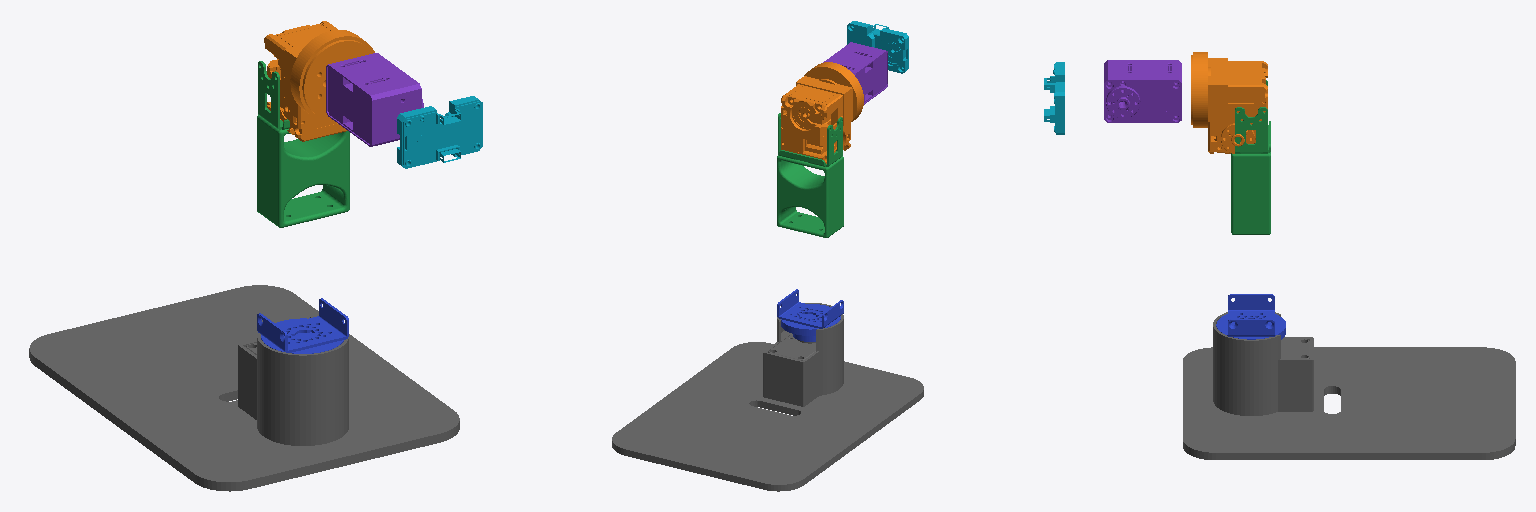
The robot description file, URDF, robot "robot_arm_fusion":
<?xml version="1.0"?>
<robot name="robot_arm_fusion">
  <material name="base_gray"><color rgba="0.45 0.45 0.45 1"/></material>
  <material name="yaw_blue"><color rgba="0.25 0.35 0.85 1"/></material>
  <material name="shoulder_green"><color rgba="0.2 0.65 0.35 1"/></material>
  <material name="upper_orange"><color rgba="0.95 0.55 0.15 1"/></material>
  <material name="forearm_purple"><color rgba="0.55 0.3 0.8 1"/></material>
  <material name="elbow_red"><color rgba="0.85 0.25 0.2 1"/></material>
  <material name="wrist_cyan"><color rgba="0.1 0.7 0.8 1"/></material>

  <link name="base_link">
    <inertial>
      <origin xyz="0 0 0" rpy="0 0 0"/>
      <mass value="0.1"/>
      <inertia ixx="0.0001" ixy="0" ixz="0" iyy="0.0001" iyz="0" izz="0.0001"/>
    </inertial>
    <visual>
      <origin xyz="-0.075 -0.0413 0" rpy="0 -0 0"/>
      <geometry><mesh filename="../cad/exports/fusion_meshes/arm_plate_v2_1.stl" scale="0.001 0.001 0.001"/></geometry>
      <material name="base_gray"/>
    </visual>
    <visual>
      <origin xyz="0.00015 -5e-05 0.022" rpy="-1.57772e-30 2.9525e-15 -3.14159"/>
      <geometry><mesh filename="../cad/exports/fusion_meshes/XM_H-430_idler_1_DUMMY_DC12_1.stl" scale="0.001 0.001 0.001"/></geometry>
      <material name="base_gray"/>
    </visual>
  </link>

  <link name="base_yaw_link">
    <inertial>
      <origin xyz="0 0 0" rpy="0 0 0"/>
      <mass value="0.1"/>
      <inertia ixx="0.0001" ixy="0" ixz="0" iyy="0.0001" iyz="0" izz="0.0001"/>
    </inertial>
    <visual>
      <origin xyz="-4.43239e-34 9.52863e-34 0.055" rpy="-3.14159 -1.21521e-17 -3.14159"/>
      <geometry><mesh filename="../cad/exports/fusion_meshes/arm_thrustA_1.stl" scale="0.001 0.001 0.001"/></geometry>
      <material name="yaw_blue"/>
    </visual>
    <visual>
      <origin xyz="2.56706e-16 1.09555e-16 0.0745" rpy="-3.14159 -2.04493e-15 -3.14159"/>
      <geometry><mesh filename="../cad/exports/fusion_meshes/fr12_s102_k_1.stl" scale="0.001 0.001 0.001"/></geometry>
      <material name="yaw_blue"/>
    </visual>
    <visual>
      <origin xyz="7.66984e-17 1.57737e-16 0.0955" rpy="1.5708 7.13883e-18 1.5708"/>
      <geometry><mesh filename="../cad/exports/fusion_meshes/XM_H-430_idler_2_DUMMY_DC12_1.stl" scale="0.001 0.001 0.001"/></geometry>
      <material name="yaw_blue"/>
    </visual>
  </link>

  <link name="shoulder_pitch_link">
    <inertial>
      <origin xyz="0 0 0" rpy="0 0 0"/>
      <mass value="0.1"/>
      <inertia ixx="0.0001" ixy="0" ixz="0" iyy="0.0001" iyz="0" izz="0.0001"/>
    </inertial>
    <visual>
      <origin xyz="4.36406e-17 1.76033e-16 -5e-05" rpy="1.5708 2.04397e-15 1.17928e-16"/>
      <geometry><mesh filename="../cad/exports/fusion_meshes/fr12_h101_k_1.stl" scale="0.001 0.001 0.001"/></geometry>
      <material name="shoulder_green"/>
    </visual>
    <visual>
      <origin xyz="-0.0205 0.012 0.08195" rpy="0 1.5708 -1.5708"/>
      <geometry><mesh filename="../cad/exports/fusion_meshes/arm_part1_1.stl" scale="0.001 0.001 0.001"/></geometry>
      <material name="shoulder_green"/>
    </visual>
    <visual>
      <origin xyz="-1.79023e-17 -6.00631e-16 0.10995" rpy="-1.5708 1.28606e-16 1.53078e-15"/>
      <geometry><mesh filename="../cad/exports/fusion_meshes/fr12_h101_k_2.stl" scale="0.001 0.001 0.001"/></geometry>
      <material name="shoulder_green"/>
    </visual>
  </link>

  <link name="upper_arm_link">
    <inertial>
      <origin xyz="0 0 0" rpy="0 0 0"/>
      <mass value="0.1"/>
      <inertia ixx="0.0001" ixy="0" ixz="0" iyy="0.0001" iyz="0" izz="0.0001"/>
    </inertial>
    <visual>
      <origin xyz="0.00048 -0.008 0.00625" rpy="1.5708 1.20278e-16 1.65146e-15"/>
      <geometry><mesh filename="../cad/exports/fusion_meshes/2XC-430_1_DC14_A01_REF_1.stl" scale="0.001 0.001 0.001"/></geometry>
      <material name="upper_orange"/>
    </visual>
    <visual>
      <origin xyz="0.016 -0.008 -0.00575" rpy="0 1.5708 -1.5708"/>
      <geometry><mesh filename="../cad/exports/fusion_meshes/2XC-430_1_DC11_A01_HORN_REF_ASM_1_DC11_A01_HORN_REF_1.stl" scale="0.001 0.001 0.001"/></geometry>
      <material name="upper_orange"/>
    </visual>
    <visual>
      <origin xyz="0.00048 -0.02352 0.01825" rpy="0 -1.5708 -3.14159"/>
      <geometry><mesh filename="../cad/exports/fusion_meshes/2XC-430_1_DC11_A01_HORN_REF_ASM_2_DC11_A01_HORN_REF_1.stl" scale="0.001 0.001 0.001"/></geometry>
      <material name="upper_orange"/>
    </visual>
    <visual>
      <origin xyz="0.00058 -0.026 0.01824" rpy="1.5708 1.20278e-16 1.65146e-15"/>
      <geometry><mesh filename="../cad/exports/fusion_meshes/arm_thrustC_1.stl" scale="0.001 0.001 0.001"/></geometry>
      <material name="upper_orange"/>
    </visual>
    <visual>
      <origin xyz="0.00048 -0.03652 0.01825" rpy="-1.5708 -4.91456e-16 4.01944e-15"/>
      <geometry><mesh filename="../cad/exports/fusion_meshes/arm_thrustB_1.stl" scale="0.001 0.001 0.001"/></geometry>
      <material name="upper_orange"/>
    </visual>
    <visual>
      <origin xyz="0.00048 -0.05602 0.01825" rpy="-1.5708 -4.91456e-16 4.23541e-15"/>
      <geometry><mesh filename="../cad/exports/fusion_meshes/fr12_s102_k_2.stl" scale="0.001 0.001 0.001"/></geometry>
      <material name="upper_orange"/>
    </visual>
  </link>

  <link name="forearm_link">
    <inertial>
      <origin xyz="0 0 0" rpy="0 0 0"/>
      <mass value="0.1"/>
      <inertia ixx="0.0001" ixy="0" ixz="0" iyy="0.0001" iyz="0" izz="0.0001"/>
    </inertial>
    <visual>
      <origin xyz="-0.01142 -0.00992 -0.00445" rpy="0 -1.5708 -3.14159"/>
      <geometry><mesh filename="../cad/exports/fusion_meshes/XC-430_idle_1_DC11_B01_CASE_M_DUMMY_1.stl" scale="0.001 0.001 0.001"/></geometry>
      <material name="forearm_purple"/>
    </visual>
    <visual>
      <origin xyz="-0.01142 -0.00992 -0.00445" rpy="0 -1.5708 -3.14159"/>
      <geometry><mesh filename="../cad/exports/fusion_meshes/XC-430_idle_1_DC11_B01_CASE_F_DUMMY_1.stl" scale="0.001 0.001 0.001"/></geometry>
      <material name="forearm_purple"/>
    </visual>
    <visual>
      <origin xyz="-0.01142 -0.00992 -0.00445" rpy="0 -1.5708 -3.14159"/>
      <geometry><mesh filename="../cad/exports/fusion_meshes/XC-430_idle_1_DC11_B01_CASE_B_DUMMY2_1.stl" scale="0.001 0.001 0.001"/></geometry>
      <material name="forearm_purple"/>
    </visual>
    <visual>
      <origin xyz="0.00408 -0.00992 -0.00445" rpy="4.92709e-16 7.77156e-16 -1.5708"/>
      <geometry><mesh filename="../cad/exports/fusion_meshes/XC-430_idle_1_M_DC11_A01_HORN_ASM_1_M_DC11_A01_HORN_1.stl" scale="0.001 0.001 0.001"/></geometry>
      <material name="forearm_purple"/>
    </visual>
    <visual>
      <origin xyz="-0.03192 -0.03792 -0.01645" rpy="1.5708 -3.70721e-16 5.39809e-15"/>
      <geometry><mesh filename="../cad/exports/fusion_meshes/arm_hand_v2_1.stl" scale="0.001 0.001 0.001"/></geometry>
      <material name="forearm_purple"/>
    </visual>
    <visual>
      <origin xyz="-0.01142 -0.00992 -0.00445" rpy="-8.18789e-16 4.93185e-16 -3.14159"/>
      <geometry><mesh filename="../cad/exports/fusion_meshes/fr12_h101_k_3.stl" scale="0.001 0.001 0.001"/></geometry>
      <material name="forearm_purple"/>
    </visual>
  </link>

  <link name="elbow_roll_link">
    <inertial>
      <origin xyz="0 0 0" rpy="0 0 0"/>
      <mass value="0.1"/>
      <inertia ixx="0.0001" ixy="0" ixz="0" iyy="0.0001" iyz="0" izz="0.0001"/>
    </inertial>
  </link>

  <link name="wrist_pitch_link">
    <inertial>
      <origin xyz="0 0 0" rpy="0 0 0"/>
      <mass value="0.1"/>
      <inertia ixx="0.0001" ixy="0" ixz="0" iyy="0.0001" iyz="0" izz="0.0001"/>
    </inertial>
    <visual>
      <origin xyz="-0.00732 -0.00202 -0.00855" rpy="0 -1.5708 1.5708"/>
      <geometry><mesh filename="../cad/exports/fusion_meshes/XC-430_idle_2_DC11_B01_CASE_M_DUMMY_1.stl" scale="0.001 0.001 0.001"/></geometry>
      <material name="wrist_cyan"/>
    </visual>
    <visual>
      <origin xyz="-0.00732 -0.00202 -0.00855" rpy="0 -1.5708 1.5708"/>
      <geometry><mesh filename="../cad/exports/fusion_meshes/XC-430_idle_2_DC11_B01_CASE_F_DUMMY_1.stl" scale="0.001 0.001 0.001"/></geometry>
      <material name="wrist_cyan"/>
    </visual>
    <visual>
      <origin xyz="-0.00732 -0.00202 -0.00855" rpy="0 -1.5708 1.5708"/>
      <geometry><mesh filename="../cad/exports/fusion_meshes/XC-430_idle_2_DC11_B01_CASE_B_DUMMY2_1.stl" scale="0.001 0.001 0.001"/></geometry>
      <material name="wrist_cyan"/>
    </visual>
    <visual>
      <origin xyz="-0.00732 -0.01752 -0.00855" rpy="-3.33067e-16 -1.44018e-15 -3.14159"/>
      <geometry><mesh filename="../cad/exports/fusion_meshes/XC-430_idle_2_M_DC11_A01_HORN_ASM_1_M_DC11_A01_HORN_1.stl" scale="0.001 0.001 0.001"/></geometry>
      <material name="wrist_cyan"/>
    </visual>
  </link>

  <joint name="base_yaw_joint" type="revolute">
    <parent link="base_link"/>
    <child link="base_yaw_link"/>
    <origin xyz="0 0 0" rpy="0 0 0"/>
    <axis xyz="0 0 1"/>
    <limit lower="-3.14159" upper="3.14159" effort="2.0" velocity="1.0"/>
  </joint>

  <joint name="shoulder_pitch_joint" type="revolute">
    <parent link="base_yaw_link"/>
    <child link="shoulder_pitch_link"/>
    <origin xyz="0 0 0.0955" rpy="0 0 0"/>
    <axis xyz="1 0 0"/>
    <limit lower="-1.5708" upper="1.5708" effort="2.0" velocity="1.0"/>
  </joint>

  <joint name="elbow_pitch_joint" type="revolute">
    <parent link="shoulder_pitch_link"/>
    <child link="upper_arm_link"/>
    <origin xyz="0 0 0.0972" rpy="0 0 0"/>
    <axis xyz="1 0 0"/>
    <limit lower="-1.5708" upper="1.5708" effort="2.0" velocity="1.0"/>
  </joint>

  <joint name="upper_arm_roll_joint" type="revolute">
    <parent link="upper_arm_link"/>
    <child link="forearm_link"/>
    <origin xyz="0.0119 -0.0671 0.0227" rpy="0 0 0"/>
    <axis xyz="0 0 -1"/>
    <limit lower="-1.5708" upper="1.5708" effort="2.0" velocity="1.0"/>
  </joint>

  <joint name="elbow_roll_joint" type="revolute">
    <parent link="forearm_link"/>
    <child link="elbow_roll_link"/>
    <origin xyz="-0.0078 -0.0004 0" rpy="0 0 0"/>
    <axis xyz="-1 0 0"/>
    <limit lower="-1.5708" upper="1.5708" effort="2.0" velocity="1.0"/>
  </joint>

  <joint name="wrist_pitch_joint" type="revolute">
    <parent link="elbow_roll_link"/>
    <child link="wrist_pitch_link"/>
    <origin xyz="0.0037 -0.0595 0.0041" rpy="0 0 0"/>
    <axis xyz="0 1 0"/>
    <limit lower="-1.5708" upper="1.5708" effort="2.0" velocity="1.0"/>
  </joint>

</robot>

--- Facts derived from the render (not from the file) ---
3 views of the same robot in one strip: view 1: azimuth 30°, elevation 25°; view 2: azimuth 150°, elevation 25°; view 3: azimuth 270°, elevation 25° (orthographic).
Model robot_arm_fusion with 7 links and 6 joints (6 revolute), rooted at base_link, posed all joints at 0.
Visible links, largest first — view 1: base_link, shoulder_pitch_link, upper_arm_link, forearm_link, wrist_pitch_link, base_yaw_link; view 2: base_link, upper_arm_link, shoulder_pitch_link, base_yaw_link, forearm_link, wrist_pitch_link; view 3: base_link, upper_arm_link, forearm_link, shoulder_pitch_link, base_yaw_link, wrist_pitch_link.
Boxes of the visible links, box(x1,y1,x2,y2) form: base_link: box(29, 285, 459, 491); shoulder_pitch_link: box(257, 61, 349, 227); upper_arm_link: box(264, 21, 374, 141); forearm_link: box(326, 53, 423, 146); wrist_pitch_link: box(397, 96, 482, 168); base_yaw_link: box(257, 298, 348, 353); base_link: box(612, 303, 923, 491); upper_arm_link: box(781, 62, 863, 163); shoulder_pitch_link: box(777, 113, 843, 237); base_yaw_link: box(777, 289, 843, 341); forearm_link: box(823, 42, 887, 104); wrist_pitch_link: box(847, 21, 908, 73); base_link: box(1183, 312, 1515, 459); upper_arm_link: box(1191, 52, 1267, 153); forearm_link: box(1104, 60, 1181, 122); shoulder_pitch_link: box(1231, 80, 1270, 234); base_yaw_link: box(1216, 294, 1285, 339); wrist_pitch_link: box(1044, 62, 1064, 134).
Size in the robot's own frame: 0.15 by 0.283 by 0.2339 metres.
Meshes: 24 distinct files referenced, 14 mesh visuals loaded (14 binary STL); not drawn: 10 (reference not matched to a file when rendering).
